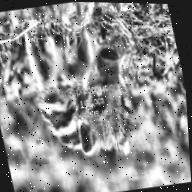boar: (14, 16, 176, 172)
